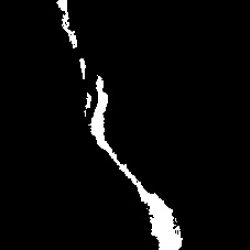crack: (54, 3, 185, 249)
